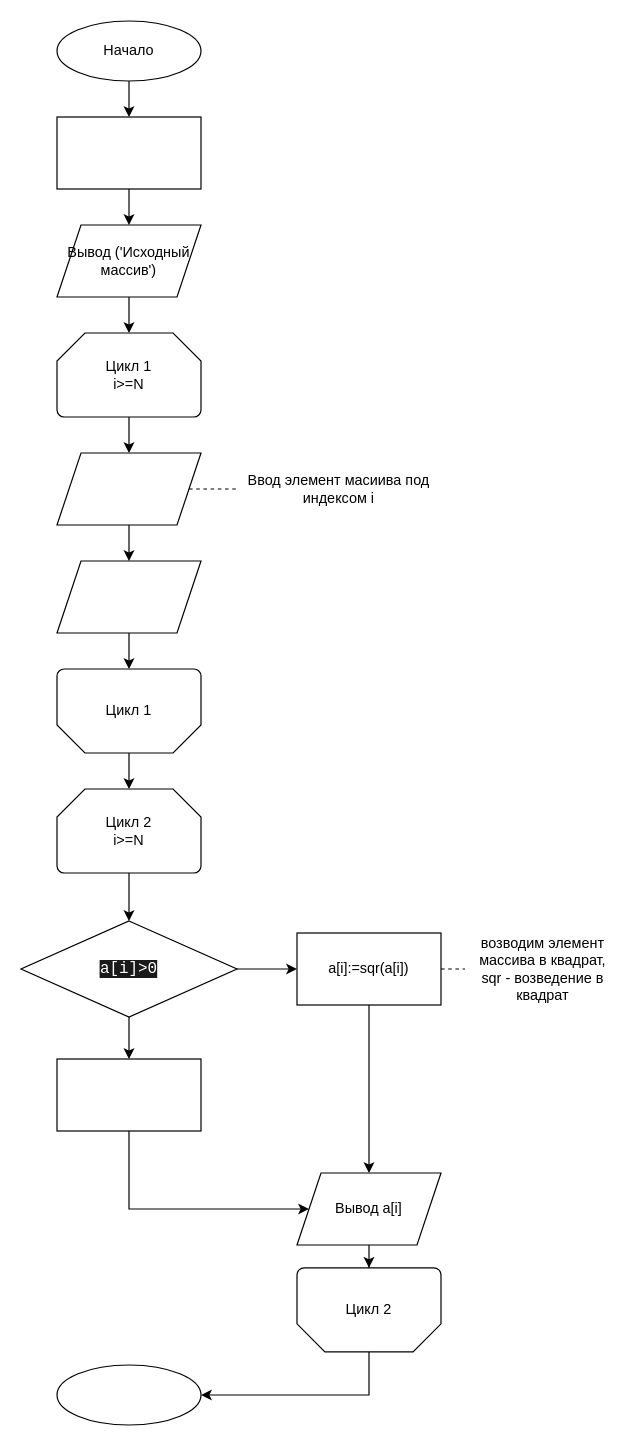
The diagram is 642 pixels wide and 1446 high, and some of its shapes have lost their labels. Each missing label, with the centre of its shape:
a[i]:=0: [128,1094]
i:=1: [128,152]
Ввод a[i]: [128,488]
Вывод ('изменённый массив'): [128,596]
Конец: [128,1394]
